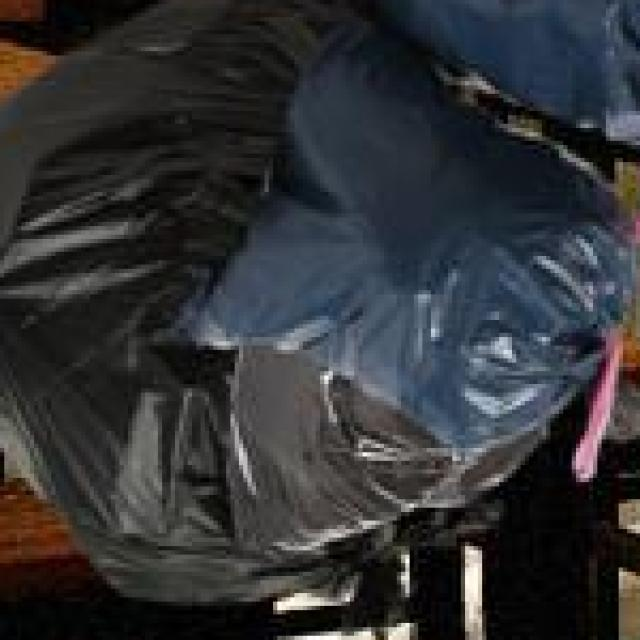Trashbag: (174, 38, 635, 451)
